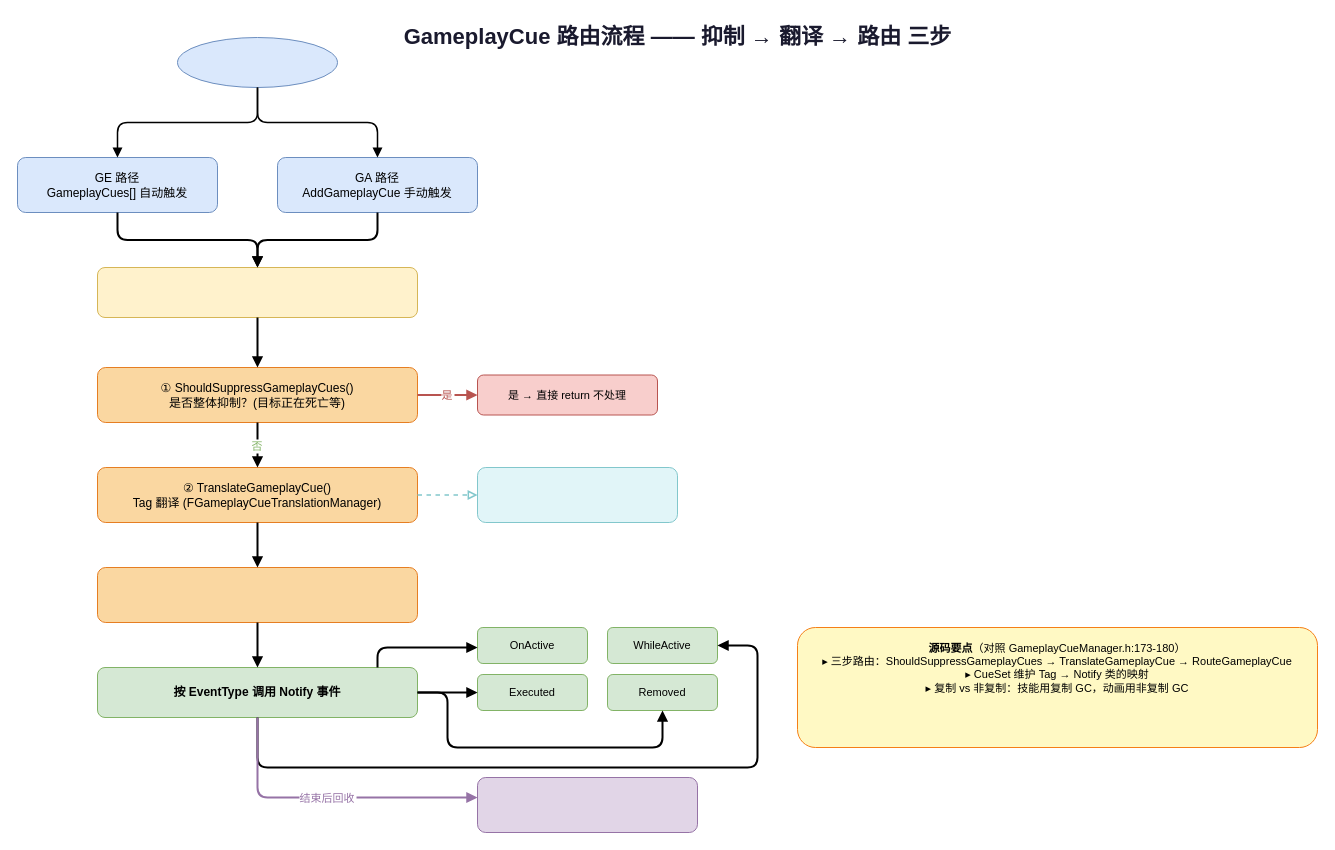
This 1335x850 diagram has some shape labels left out. Each missing label, with the box of its shape:
HandleGameplayCue(TargetActor, Tag, EventType, Parameters): (96, 266, 418, 318)
③ RouteGameplayCue() 查找 CueSet 映射 → 调用 Notify: (96, 566, 418, 622)
回收池 (Preallocation) Recycle() / ReuseAfterRecycle(): (476, 776, 698, 832)
触发源: (176, 36, 338, 88)
设备差异 / 调试替换 可映射到另一 Tag: (476, 466, 678, 522)
